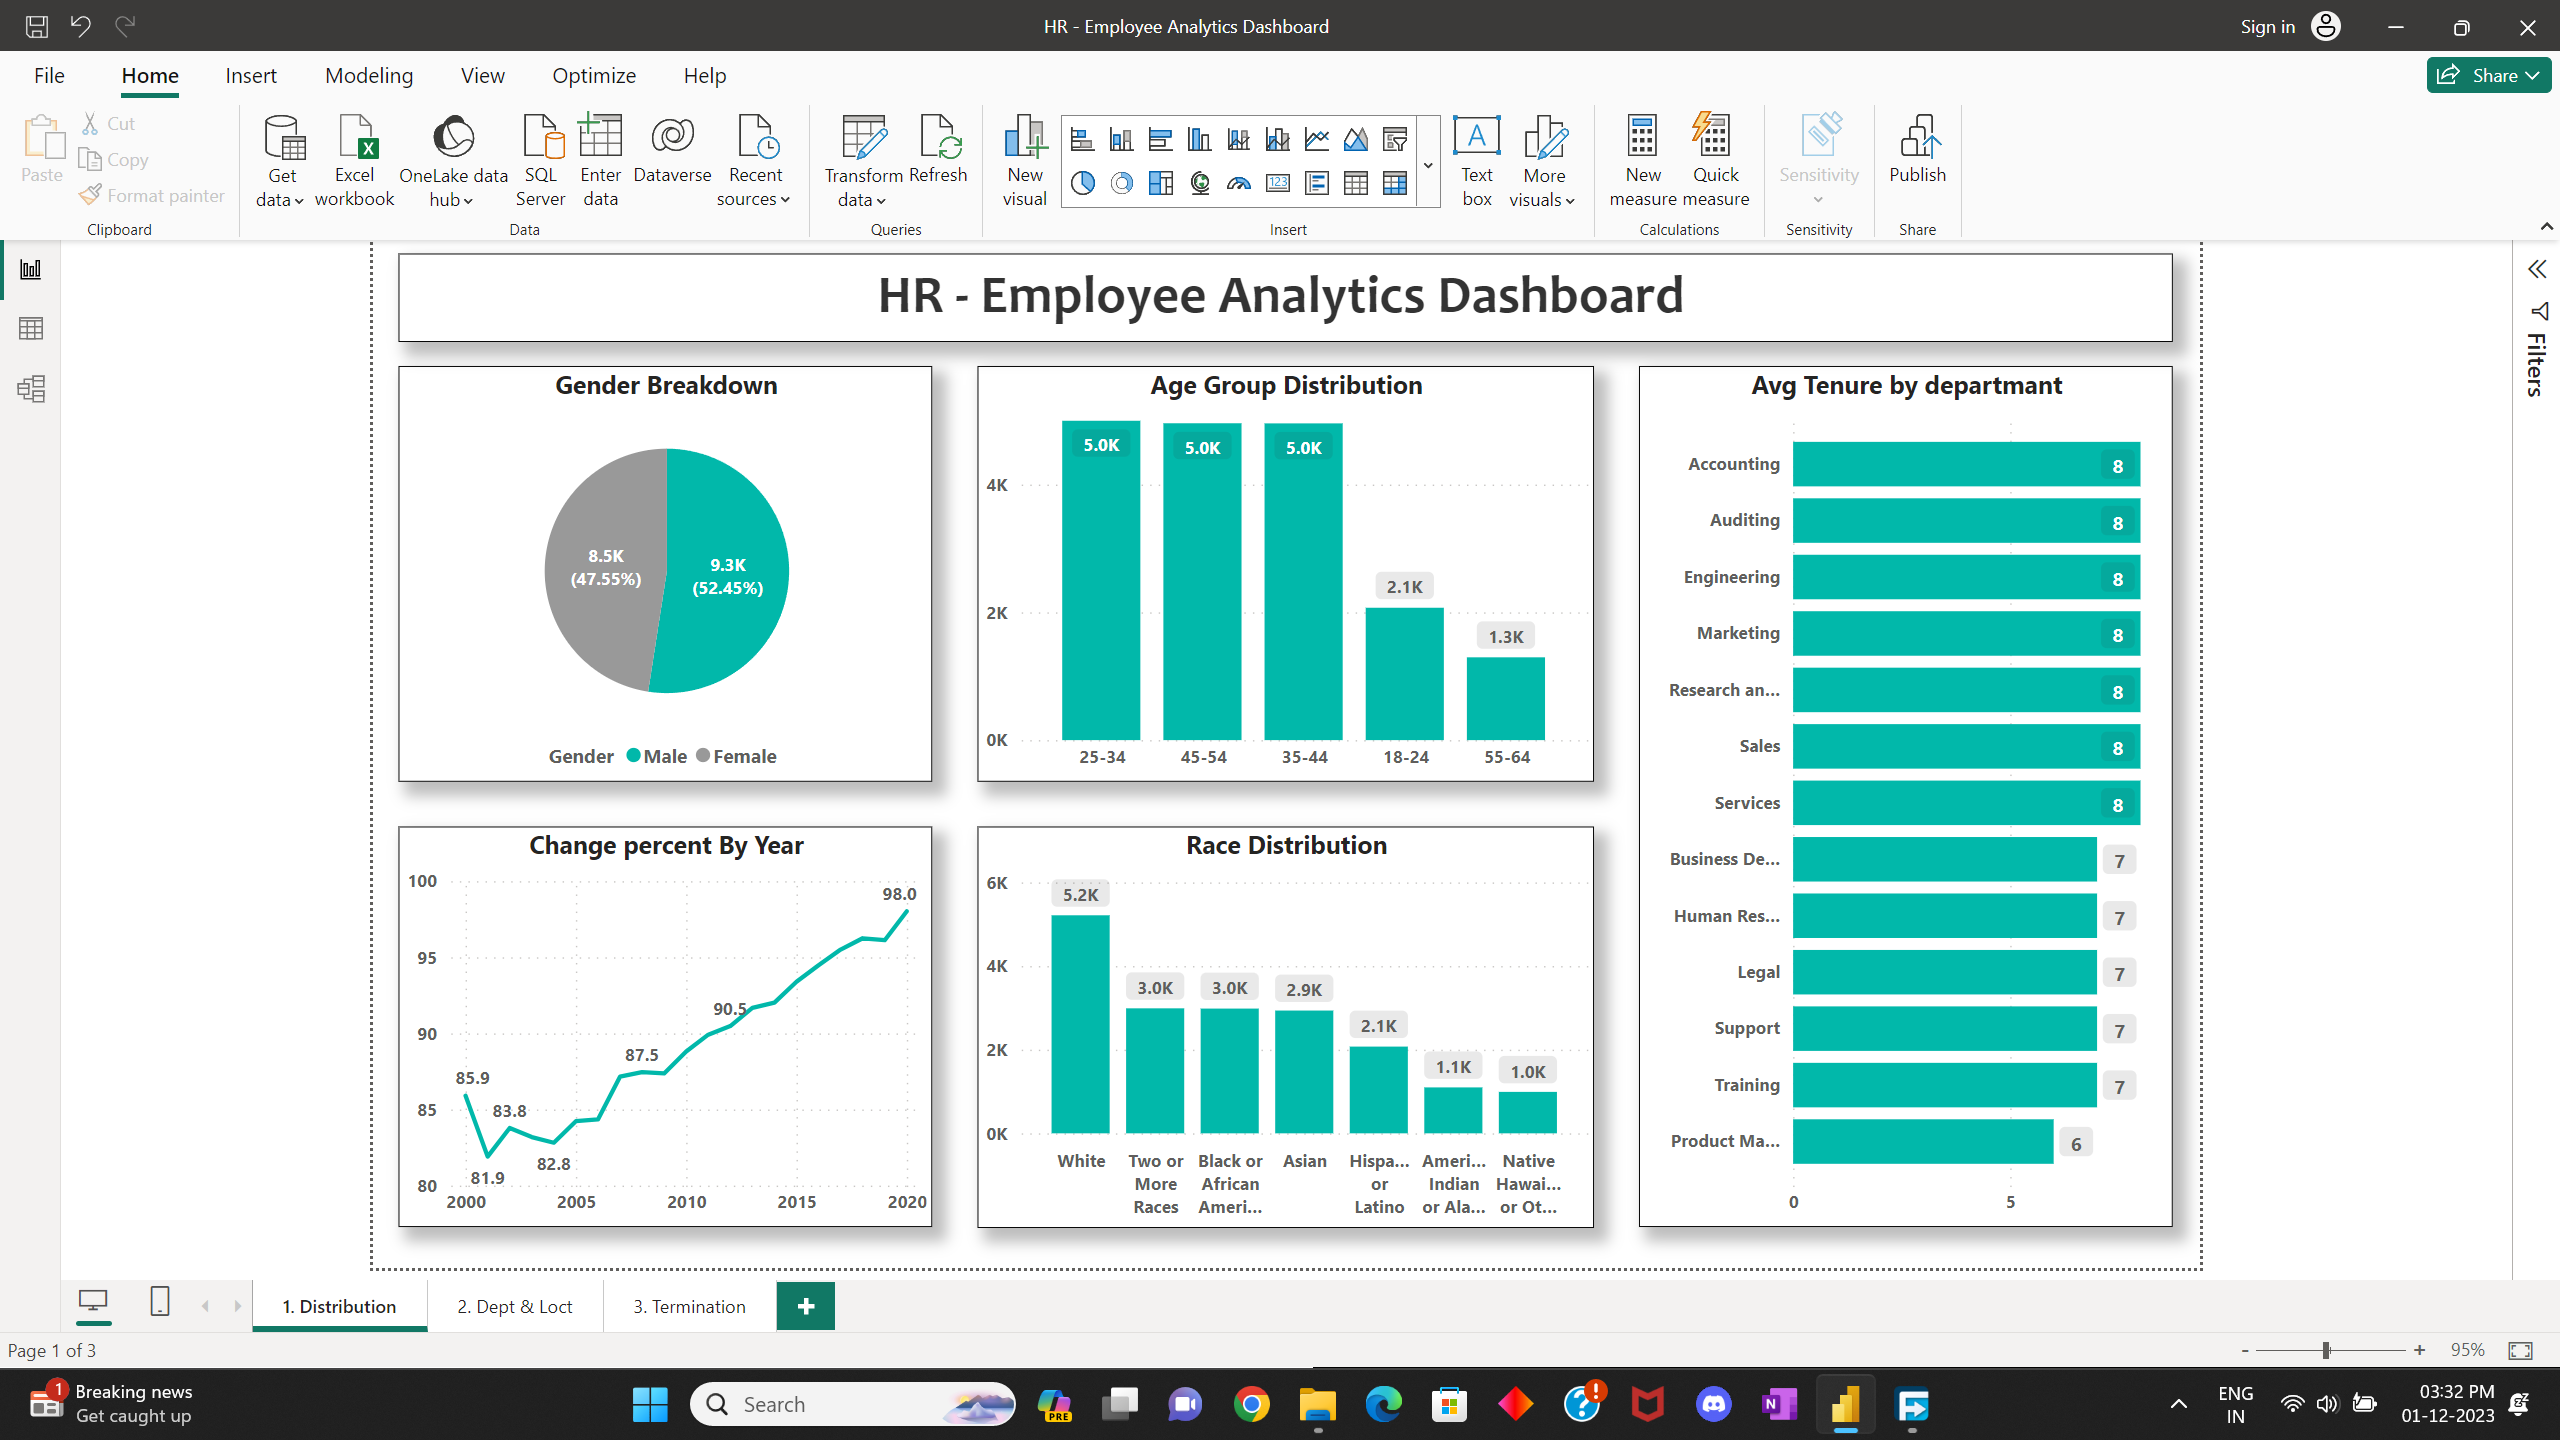

The page's visual inventory and layout, read from the dashboard file:
{"tool":"powerbi","page":{"name":"1. Distribution","canvas":[1280,720],"ordinal":0},"visuals":[{"type":"columnChart","title":"Age Group Distribution","fields":{"Category":["Table1.age_group"],"Y":["Sum(Table1.count)"]},"box":[423.6,88.3,432,291.2],"z":0},{"type":"pieChart","title":"Gender Breakdown","fields":{"Category":["gender.gender"],"Y":["Sum(gender.count)"]},"box":[17.9,88.3,374.2,291.2],"z":1000},{"type":"clusteredBarChart","title":"Avg Tenure by departmant","fields":{"Category":["tenure length.department"],"Y":["Sum(tenure length.avg_tenure)"]},"box":[887.1,88.3,374.2,603.3],"z":2000},{"type":"lineChart","title":"Change percent By Year","fields":{"Category":["year_wise_termination.year"],"Y":["Sum(year_wise_termination.change_percent)"]},"box":[17.9,411,374.2,280.6],"z":3000},{"type":"textbox","box":[17.9,9.5,1243.4,62],"z":4000},{"type":"clusteredColumnChart","title":"Race Distribution","fields":{"Category":["race_breakdown.race"],"Y":["Sum(race_breakdown.count)"]},"box":[424,411,432,281],"z":5000}]}

Visuals, with their boxes on the page's 1280x720 design canvas (x1, y1, x2, y2). These are canvas units, not pixel positions in the 2560x1440 screenshot, which may show the page scaled, cropped or inside an application window:
"Age Group Distribution" columnChart: <box>424,88,856,380</box>
"Gender Breakdown" pieChart: <box>18,88,392,380</box>
"Avg Tenure by departmant" clusteredBarChart: <box>887,88,1261,692</box>
"Change percent By Year" lineChart: <box>18,411,392,692</box>
textbox: <box>18,10,1261,72</box>
"Race Distribution" clusteredColumnChart: <box>424,411,856,692</box>
